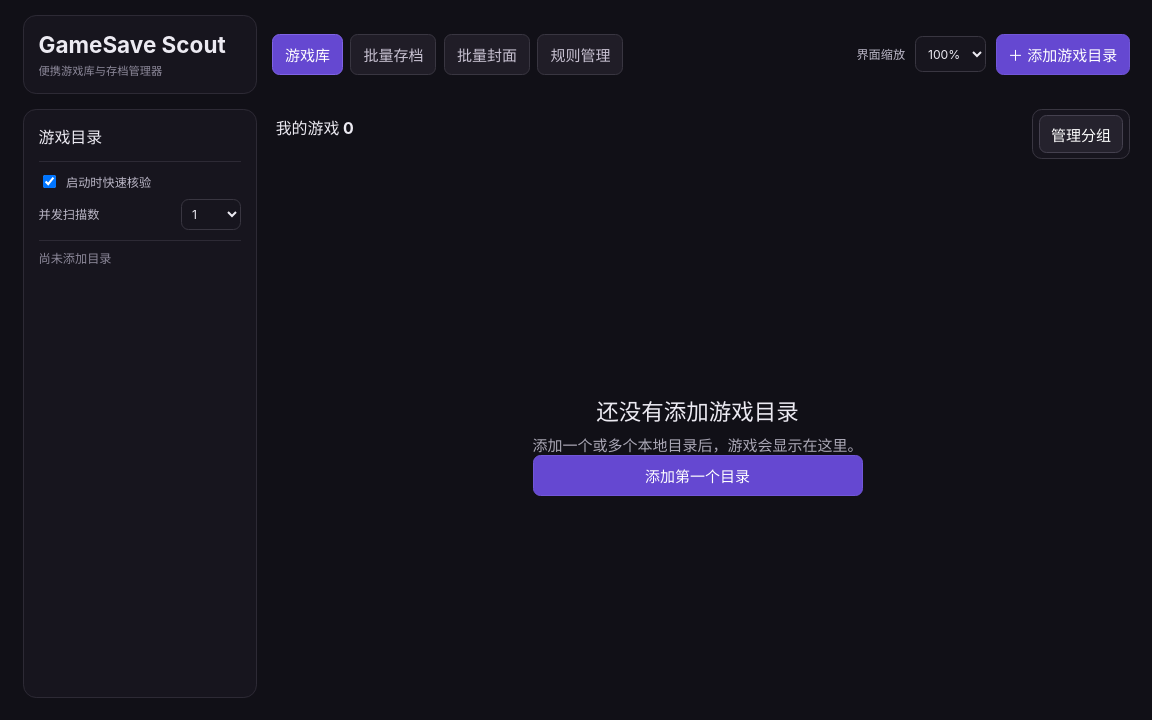
App › switches native first-level navigation without cancelling an active scan
Expected: the element with test id "root-scroll-region" is shown, [38, 251, 112, 266]
Click the button with test id "nav-batch-saves" at (393, 54), box [350, 34, 436, 75]
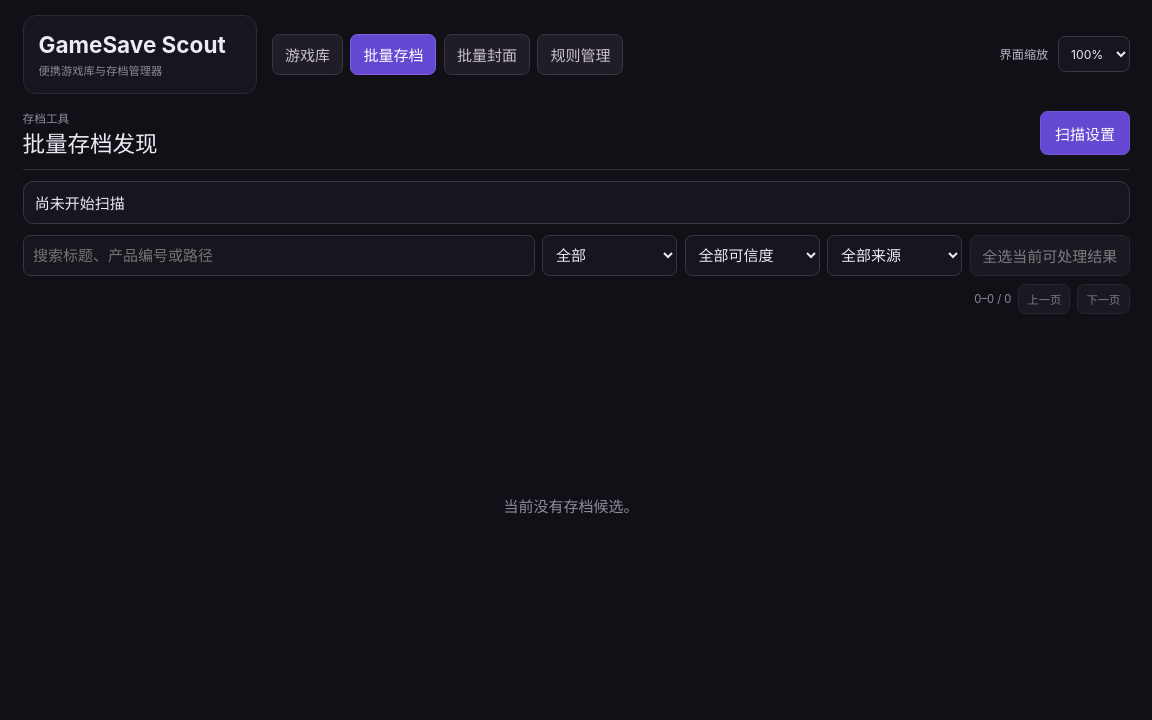
Expected: the element with class "library-layout" is gone
Expected: the element with test id "batch-save-workspace" is shown
Click the button with test id "nav-library" at (307, 54), box [272, 34, 343, 75]
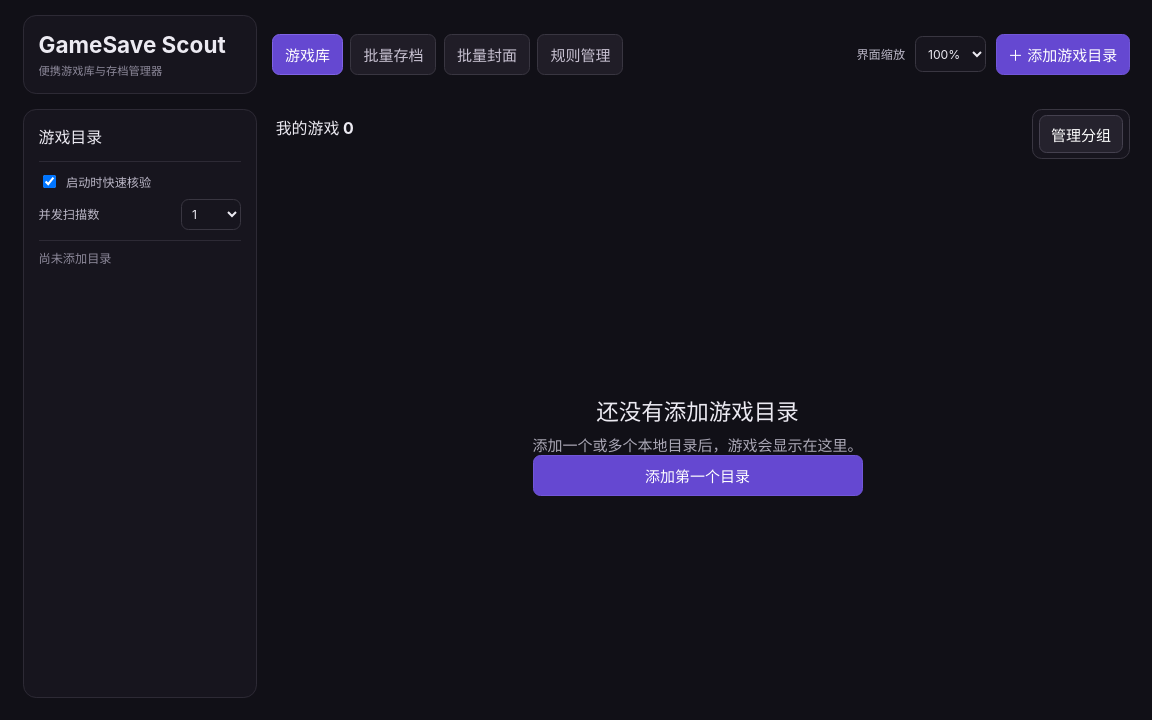
Expected: the element with test id "root-scroll-region" is shown, [38, 251, 112, 266]
